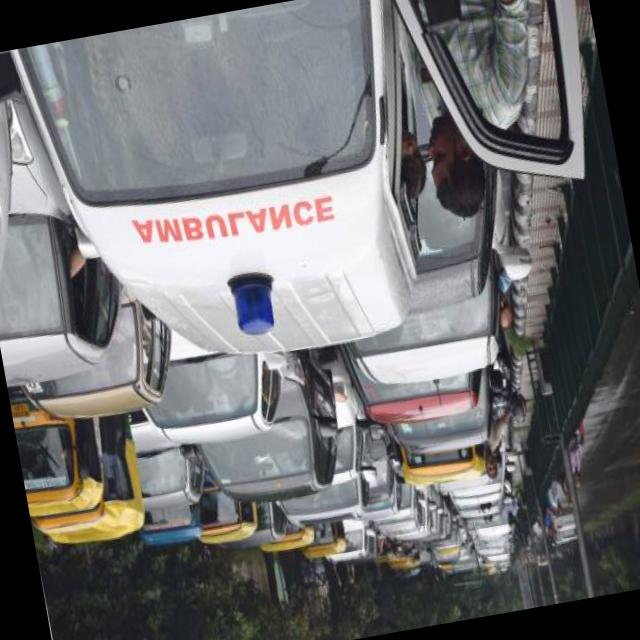ambulance: (66, 20, 412, 343)
